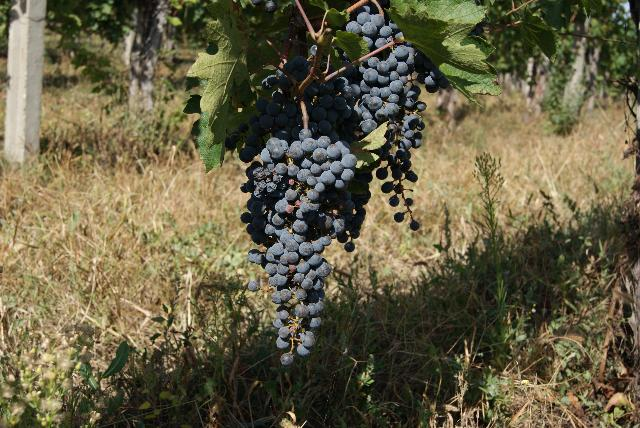grapes: (241, 129, 356, 356), (346, 0, 449, 216)
